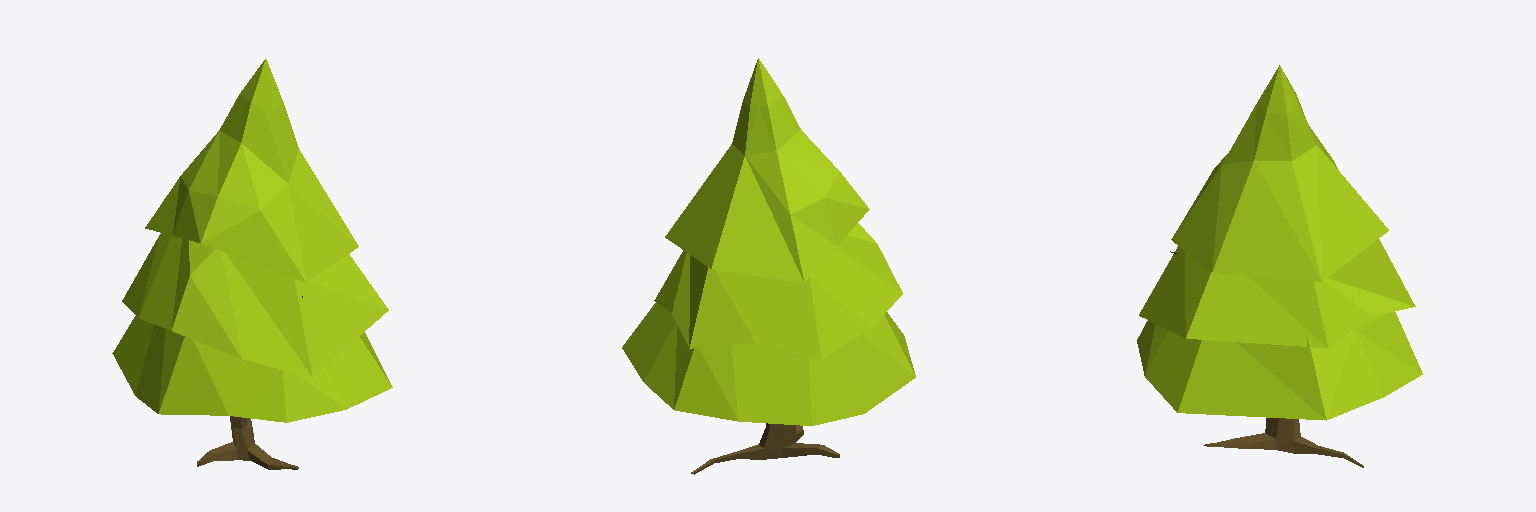
Rendered from Tree8_5.obj.
The picture shows the model from 3 angles: view 1: azimuth 30°, elevation 25°; view 2: azimuth 150°, elevation 25°; view 3: azimuth 270°, elevation 25°; orthographic projection.
Visible parts, largest first — view 1: Leaves_16_Leaves_16_Tree, Leaves_16_Leaves_16_Wood; view 2: Leaves_16_Leaves_16_Tree, Leaves_16_Leaves_16_Wood; view 3: Leaves_16_Leaves_16_Tree, Leaves_16_Leaves_16_Wood.
Boxes of the visible parts, box(x1,y1,x2,y2) form: Leaves_16_Leaves_16_Tree: box(112, 59, 392, 422); Leaves_16_Leaves_16_Wood: box(197, 296, 302, 469); Leaves_16_Leaves_16_Tree: box(622, 58, 915, 425); Leaves_16_Leaves_16_Wood: box(691, 423, 839, 474); Leaves_16_Leaves_16_Tree: box(1137, 65, 1422, 420); Leaves_16_Leaves_16_Wood: box(1170, 251, 1363, 467).
Size of the model in its own units: 0.2966 by 0.4518 by 0.2993.